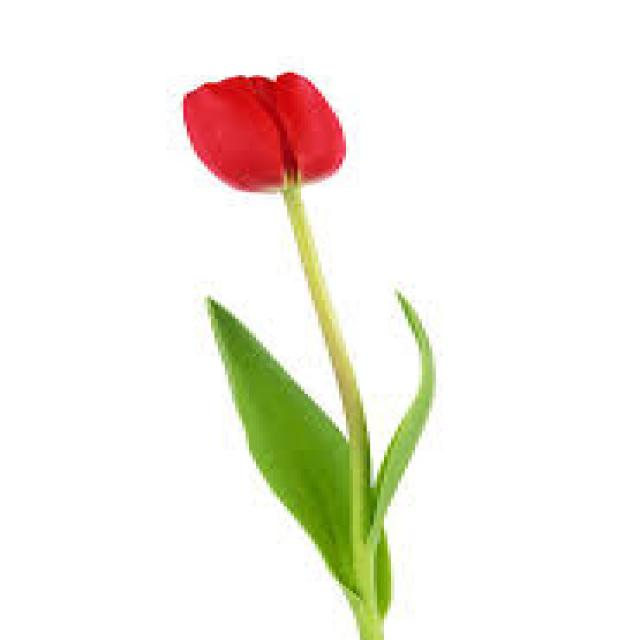tulip: (147, 49, 403, 220)
